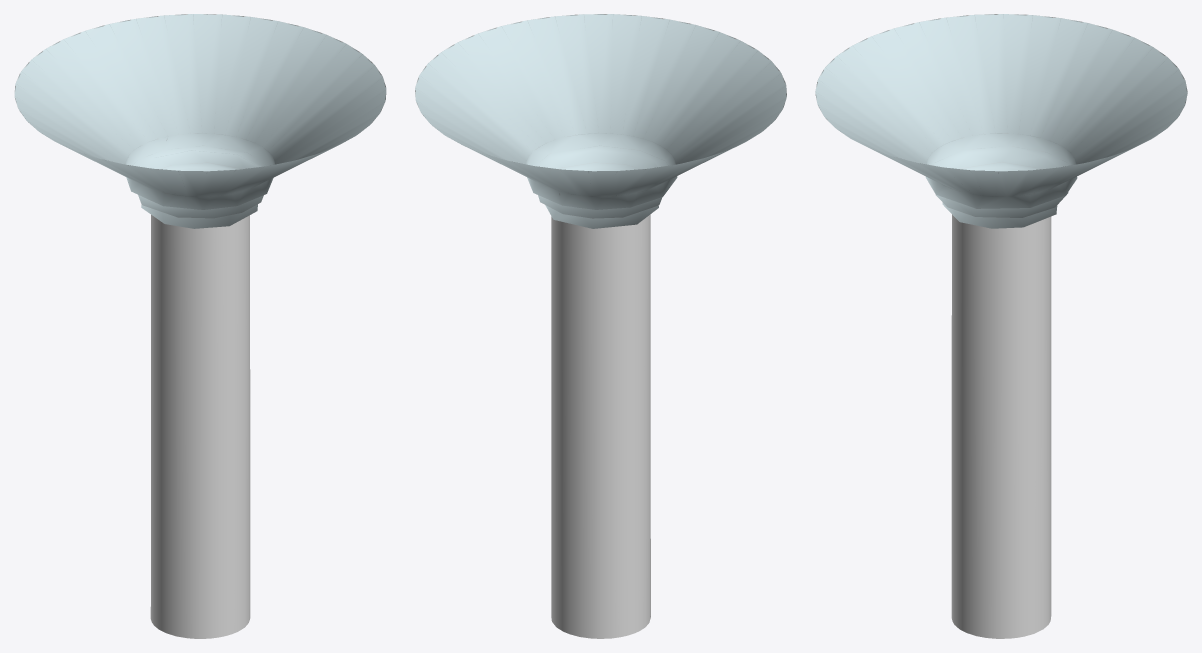
Rendered from rotor_glass.obj.
The picture shows the model from 3 angles, left to right: view 1: azimuth 30°, elevation 25°; view 2: azimuth 150°, elevation 25°; view 3: azimuth 270°, elevation 25°; orthographic projection.
Parts seen in each view (by area): view 1: 6.Rotor_Glass; view 2: 6.Rotor_Glass; view 3: 6.Rotor_Glass.
Part boxes in pixels (box(x1,y1,x2,y2)): 6.Rotor_Glass: box(14, 14, 386, 638); 6.Rotor_Glass: box(415, 14, 786, 638); 6.Rotor_Glass: box(815, 14, 1187, 638).
Bounding box in the file's own units: 2.73 × 4.25 × 2.73.
Materials: 1 (1 with a texture image).
